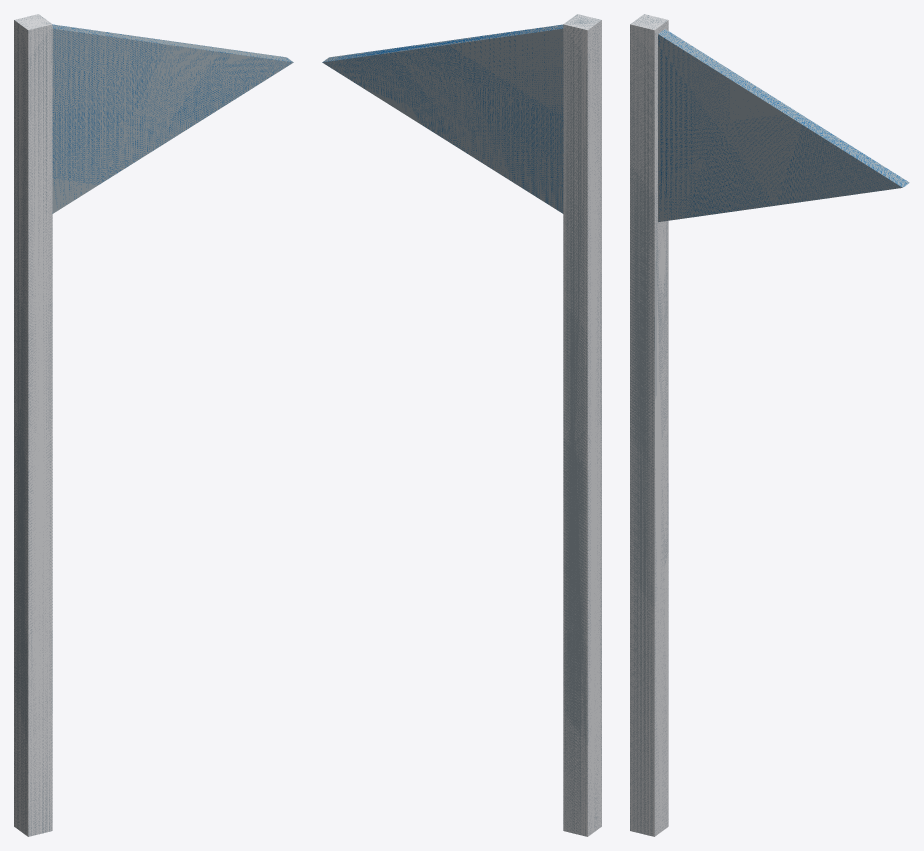
File: Flag_blue_01.obj
3 renders of one model, left to right at view 1: azimuth 30°, elevation 25°; view 2: azimuth 150°, elevation 25°; view 3: azimuth 330°, elevation 25°, orthographic.
Parts seen in each view (by area): view 1: Mesh1 Flag_blue Model; view 2: Mesh1 Flag_blue Model; view 3: Mesh1 Flag_blue Model.
Boxes of the visible parts, x1=… form: Mesh1 Flag_blue Model: x1=14, y1=14, x2=293, y2=836; Mesh1 Flag_blue Model: x1=322, y1=14, x2=601, y2=836; Mesh1 Flag_blue Model: x1=630, y1=14, x2=909, y2=836.
Size of the model in its own units: 2.2 by 6.3 by 0.2.
